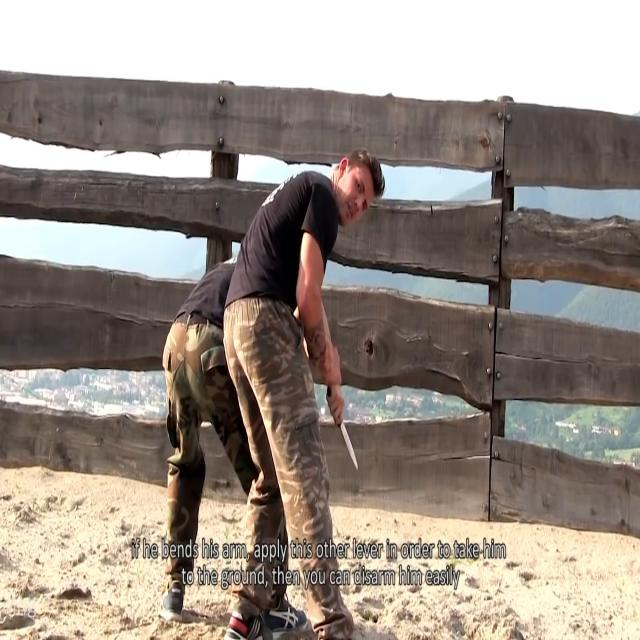knife: (339, 418, 361, 474)
